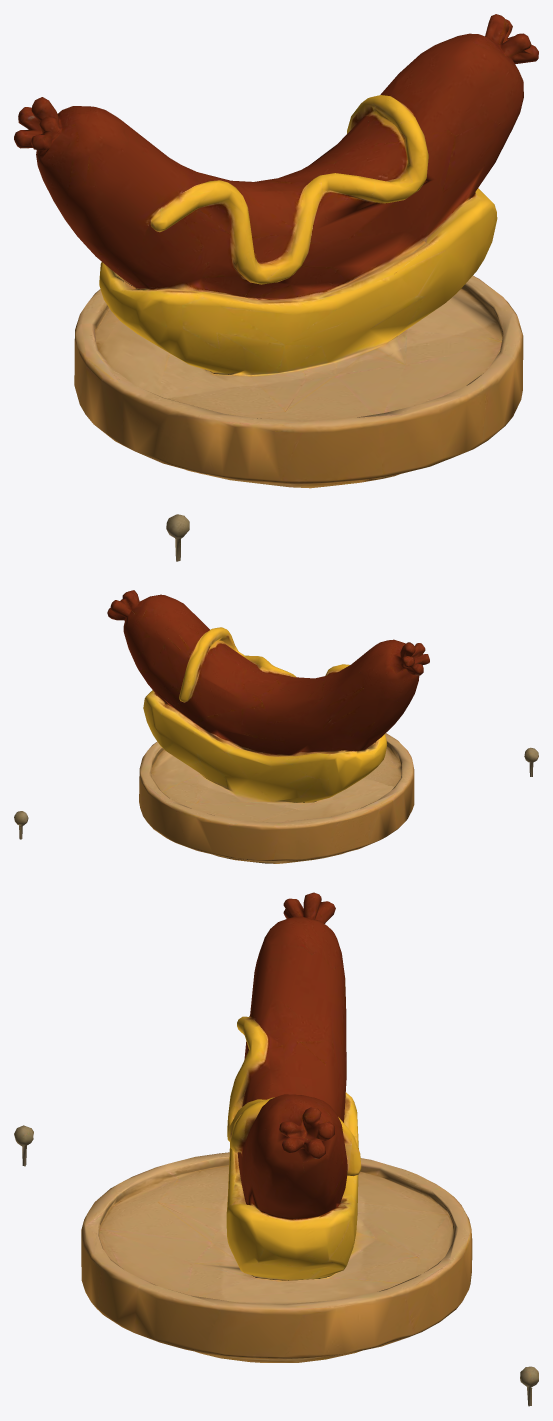
File: token-bratwurst.glb
3 views of the same model, one above another, from view 1: azimuth 30°, elevation 25°; view 2: azimuth 150°, elevation 25°; view 3: azimuth 270°, elevation 25° (orthographic). The views are drawn at different scales.
Size of the model in its own units: 1.9 by 1.17 by 1.8.
1 material, 1 textured.
